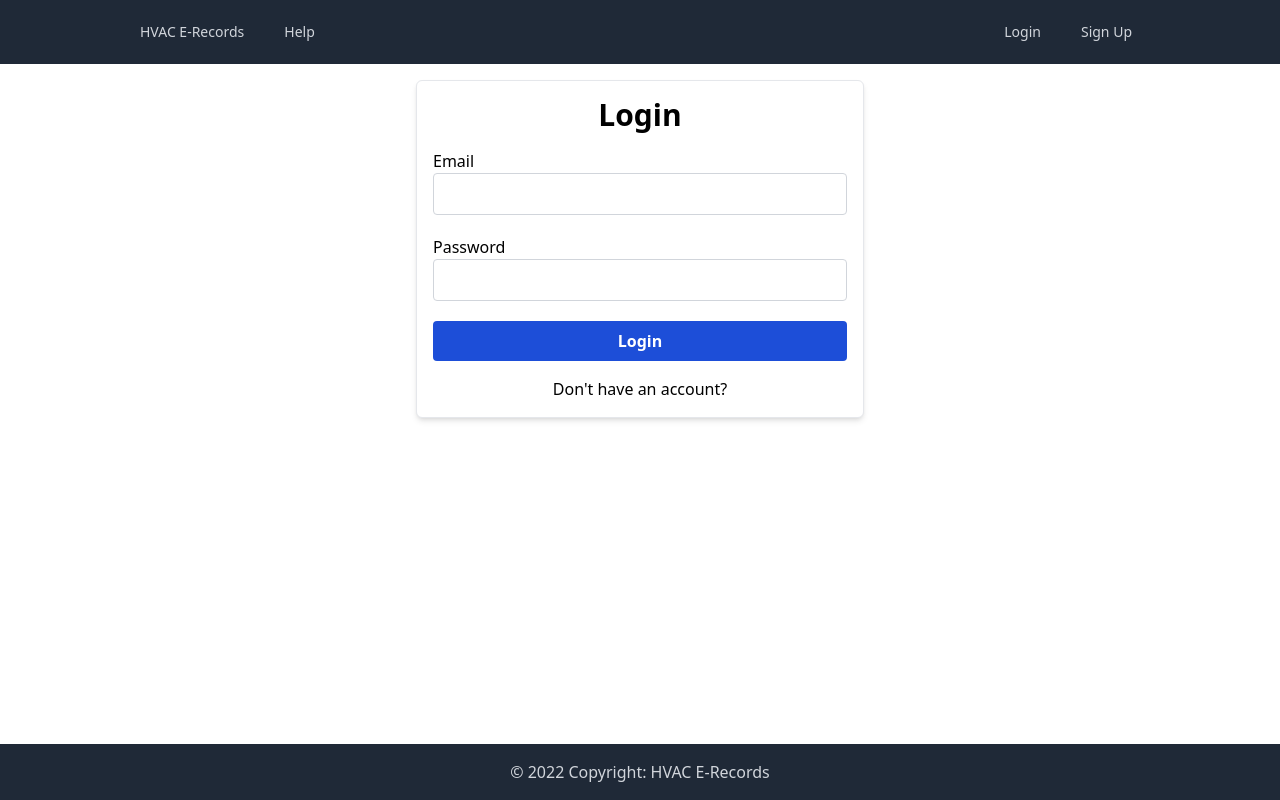
Test: Task details page › should display the numeric task details
Type "test@test.com" into the field with id "email" at (640, 194), box [433,173,847,215]
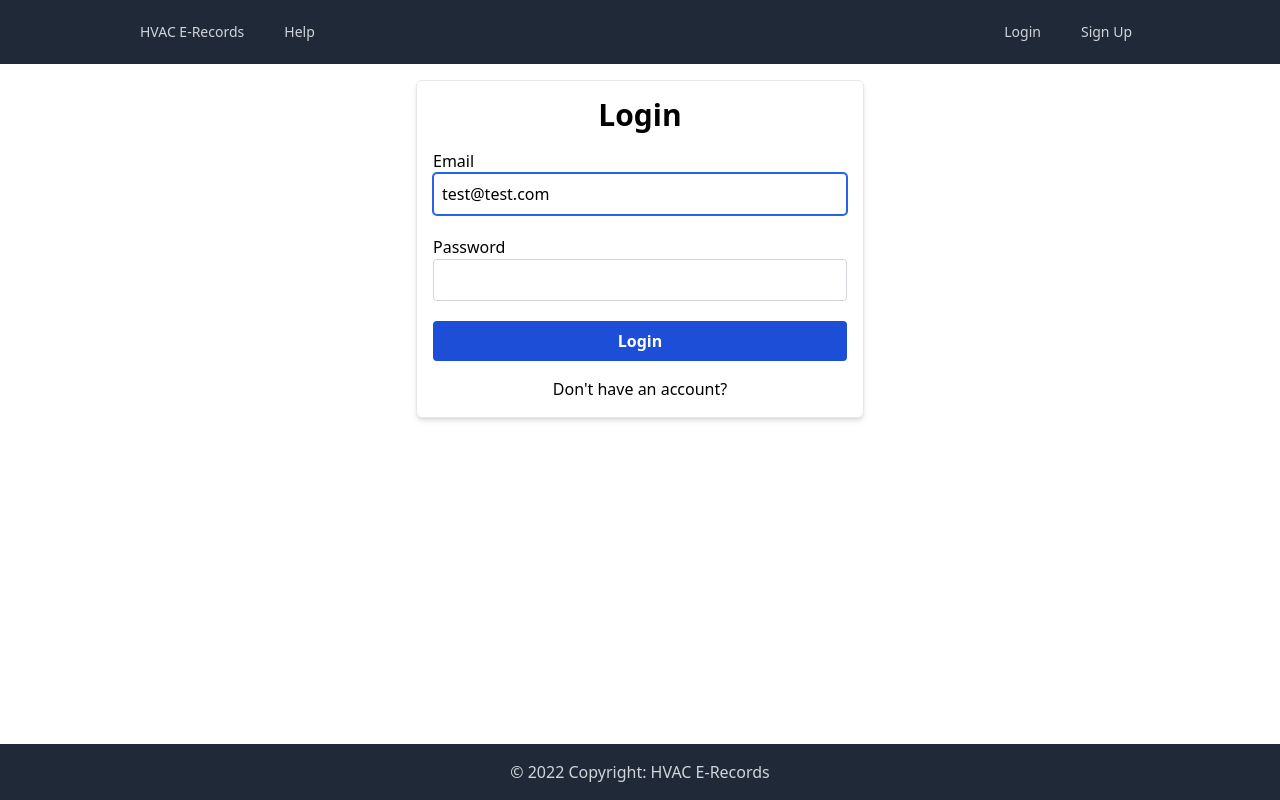
Type "Testing123!" into the password field labelled "Password" at (640, 280), box [433,259,847,301]
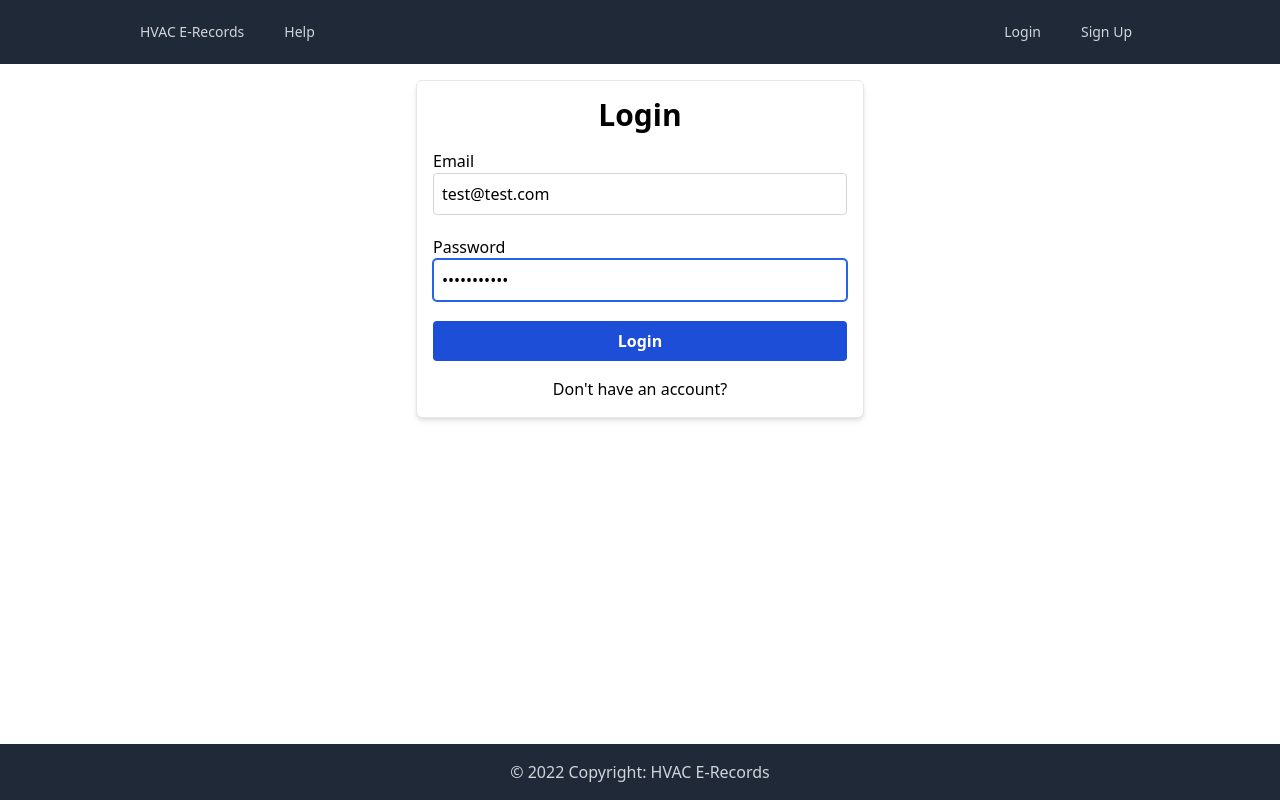
Click the button with id "login-button" at (640, 341), box [433,321,847,361]
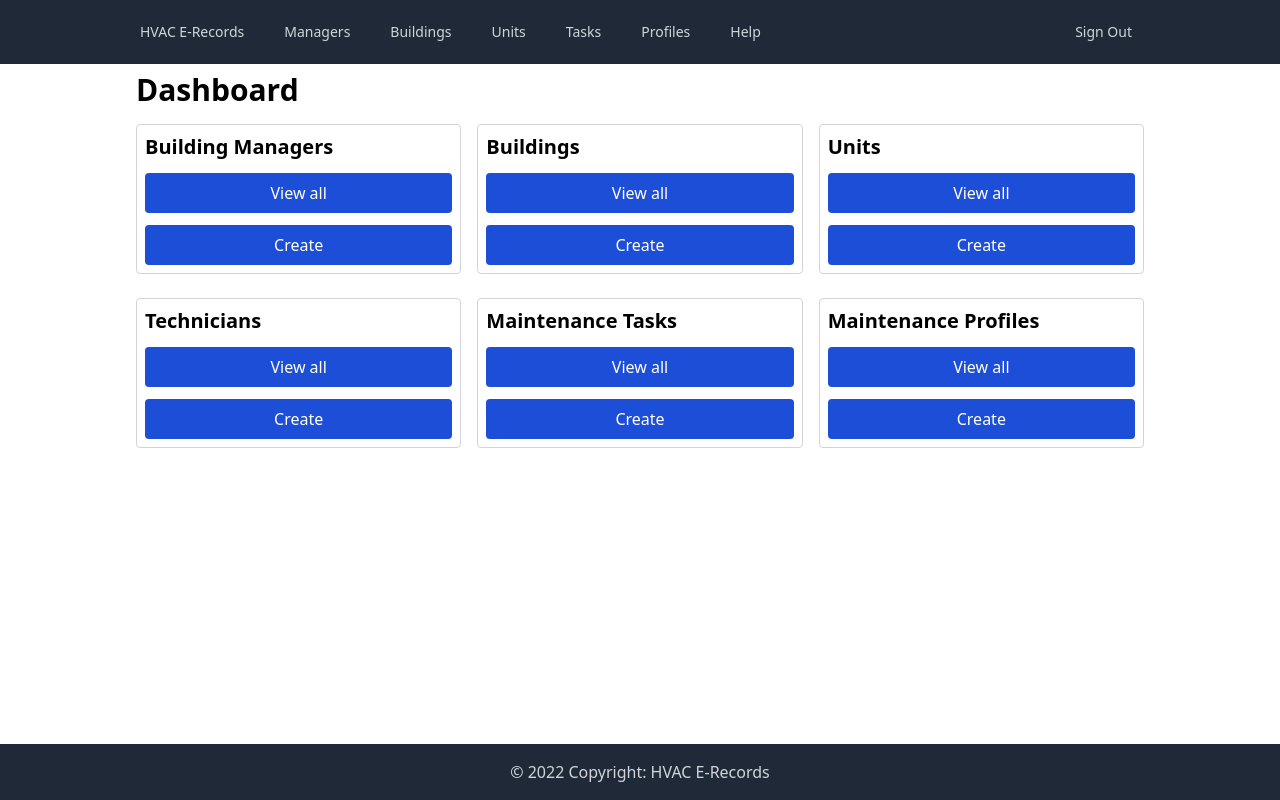
Open "http://localhost:3000/tasks/1"
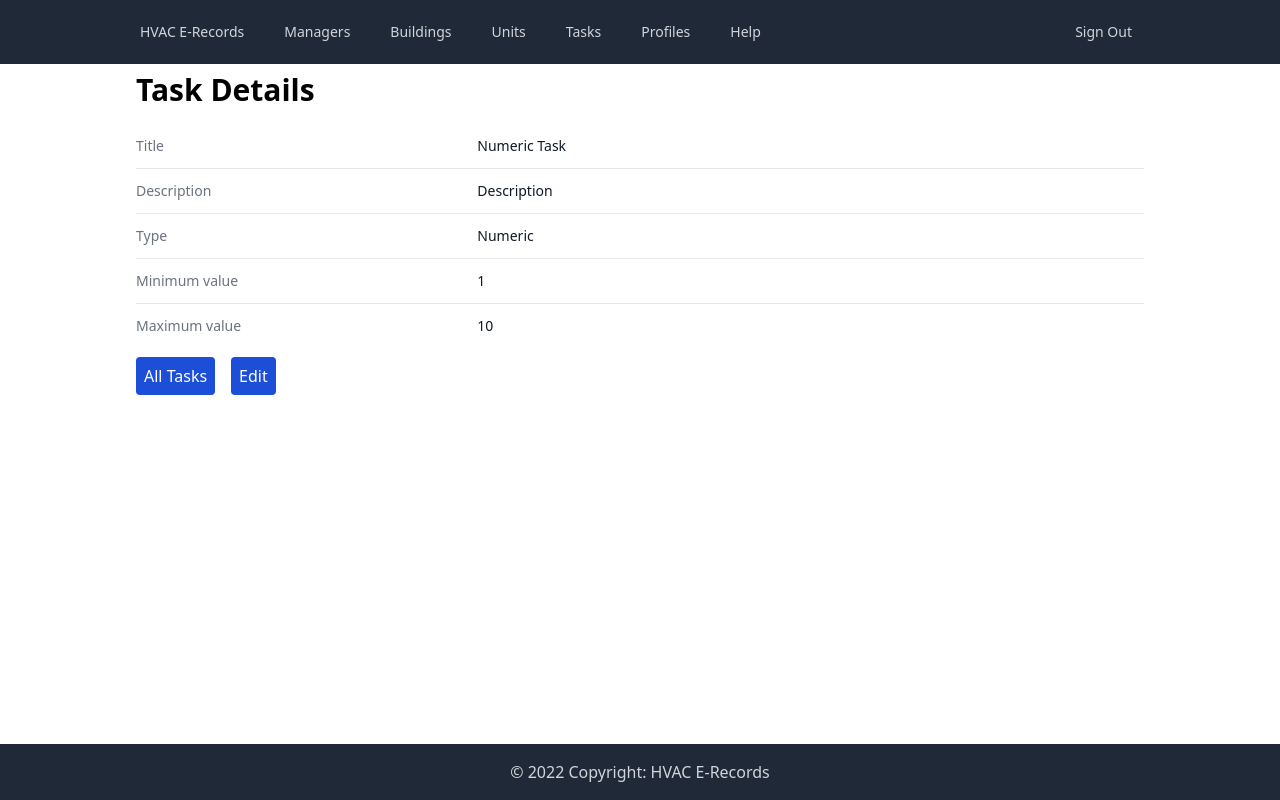
Expected: the text with id "title" reads "Numeric Task", [477,136,566,155]
Expected: the text with id "description" reads "Description", [477,181,552,200]
Expected: the text with id "type" reads "Numeric", [477,226,533,245]
